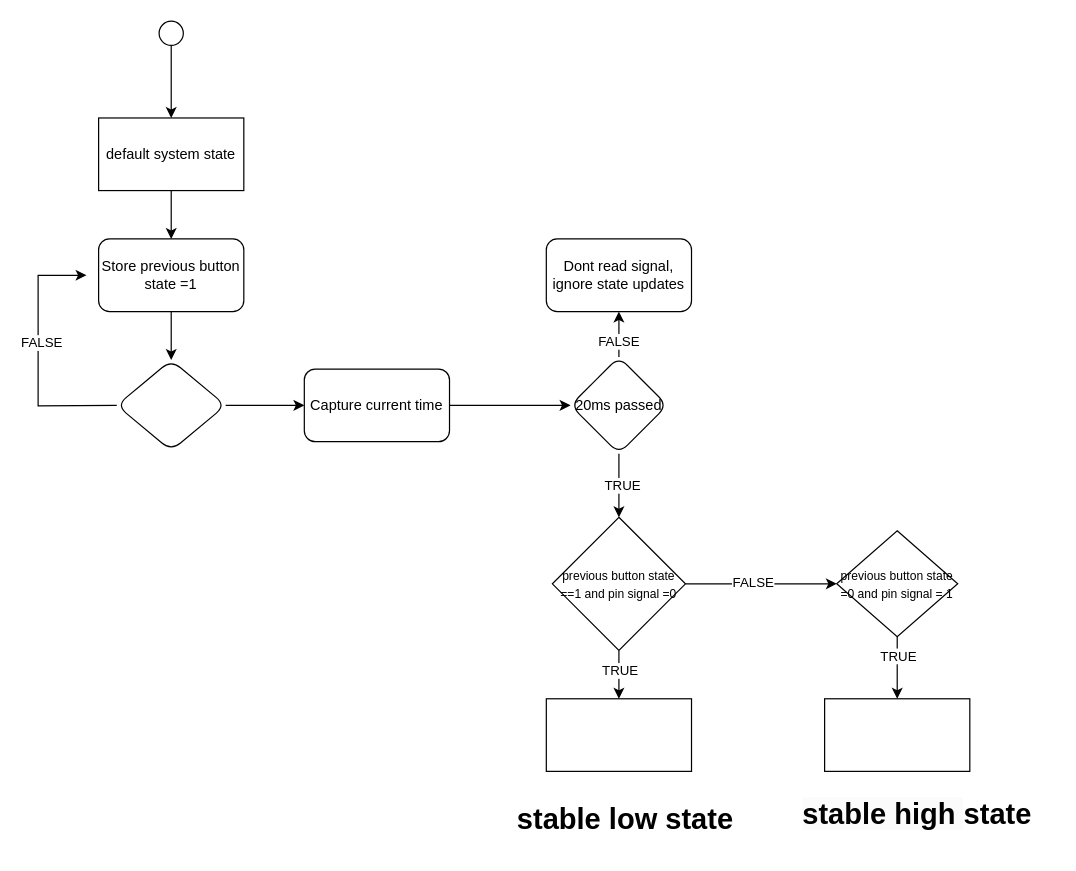
This 1076x871 diagram has some shape labels left out. The centre of each missing label's shape, as x and y in pixels:
"button pressed" goes at pixel 171 405.
"button state =0 -> register button pressed *capture current time" goes at pixel 618 734.
"button state =1 capture current time" goes at pixel 896 734.
